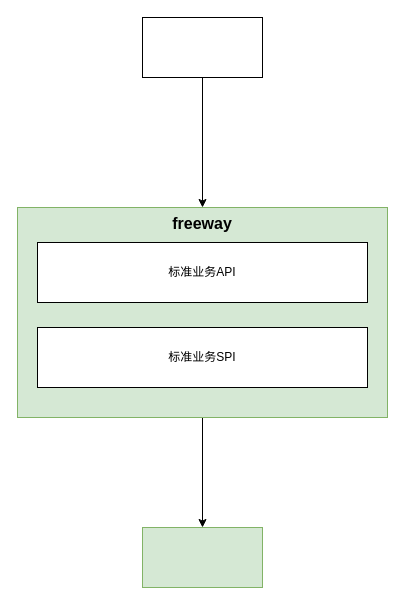
Image size: 405x605. Some labels were removed from this diagram. Each missing label, with the centre of its shape:
ng-iso-channel: point 202,557
业务系统: point 202,47
